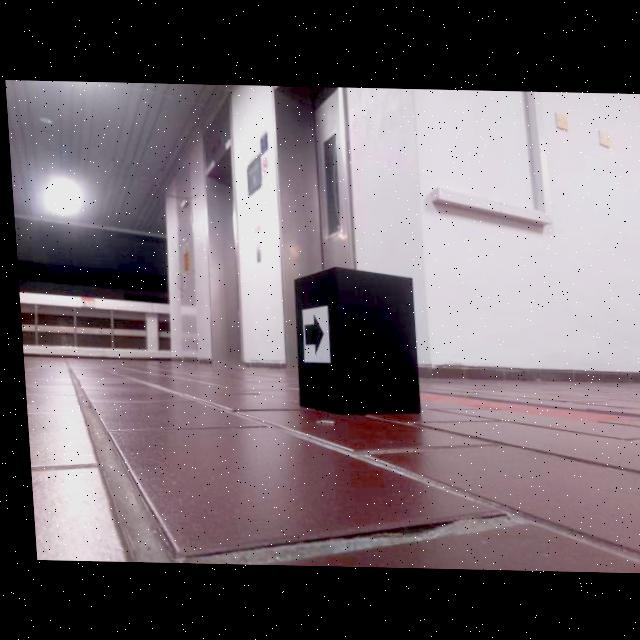RIGHT: (301, 314, 320, 353)
